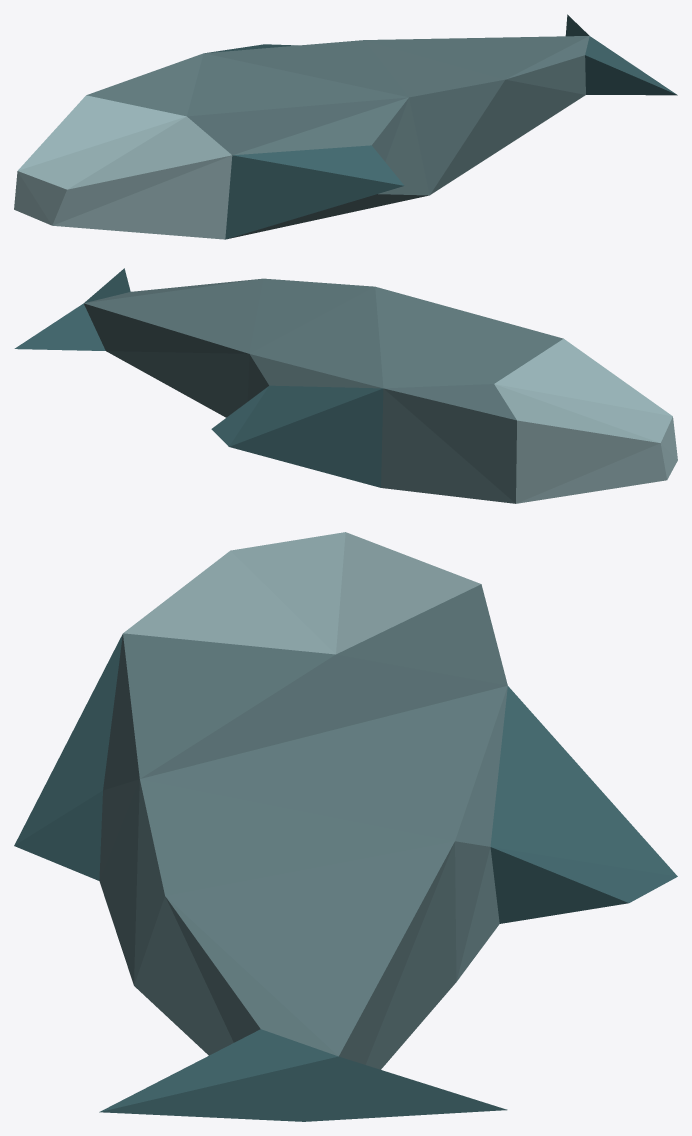
File: Fish_01.glb
The picture shows the model from 3 angles, top to bottom: view 1: azimuth 30°, elevation 25°; view 2: azimuth 150°, elevation 25°; view 3: azimuth 270°, elevation 25°; orthographic projection. The views are drawn at different scales.
Visible parts, largest first — view 1: Fish_01; view 2: Fish_01; view 3: Fish_01.
Part boxes in pixels (x1,y1,x2,y2): Fish_01: (14,14,677,239); Fish_01: (14,268,677,503); Fish_01: (14,532,677,1121).
Size of what is drawn, in the model's own units: 0.3675 by 0.0595 by 0.189.
1 material, 1 textured.
